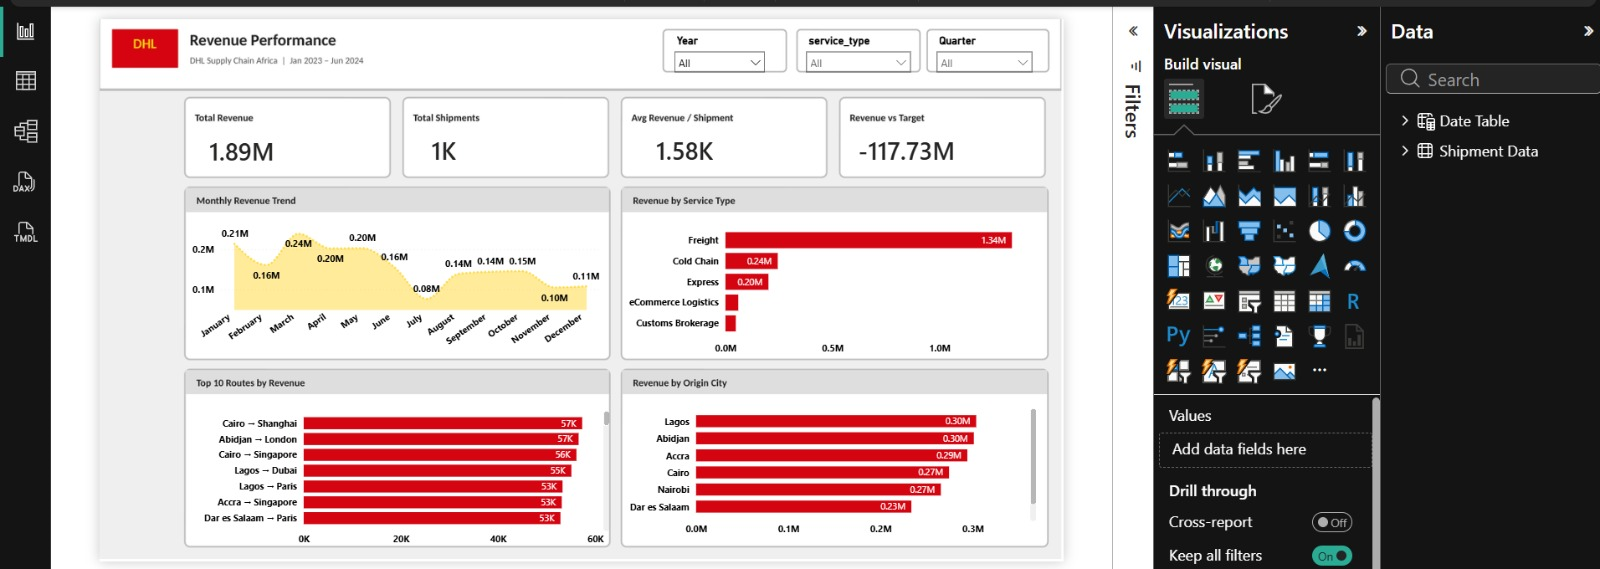

What the dashboard file says about the page in this screenshot:
{"tool":"powerbi","page":{"name":"Revenue Performance","canvas":[1280,720],"ordinal":0},"visuals":[{"type":"slicer","fields":{"Values":["Date Table.Year"]},"box":[753.3,15,140,55],"z":0},{"type":"slicer","fields":{"Values":["Date Table.Quarter"]},"box":[1101.7,15,146.7,55],"z":1},{"type":"slicer","fields":{"Values":["Shipment Data.service_type"]},"box":[928.3,15,158.3,55],"z":2},{"type":"cardVisual","fields":{"Data":["Date Table.Total Revenue"]},"box":[116.7,141.7,241.7,63.3],"z":3},{"type":"cardVisual","fields":{"Data":["Date Table.Total Shipments"]},"box":[411.7,141.7,241,62],"z":4},{"type":"cardVisual","fields":{"Data":["Date Table.Avg Revenue per Shipment"]},"box":[710,141.7,241.7,62],"z":5},{"type":"cardVisual","fields":{"Data":["Date Table.Revenue vs Target"]},"box":[978.3,141.7,241,62],"z":6},{"type":"lineChart","fields":{"Category":["Date Table.Date.Variation.Date Hierarchy.Month"],"Y":["Date Table.Total Revenue"]},"box":[116.7,265,551.7,181.7],"z":7},{"type":"clusteredBarChart","fields":{"Y":["Date Table.Total Revenue"],"Category":["Shipment Data.route"]},"box":[116.7,506.7,565,201.7],"z":9},{"type":"clusteredBarChart","fields":{"Y":["Date Table.Total Revenue"],"Category":["Shipment Data.origin_city"]},"box":[696.7,503.3,551.7,191.7],"z":10},{"type":"clusteredBarChart","fields":{"Y":["Date Table.Total Revenue"],"Category":["Shipment Data.service_type"]},"box":[696.7,258.3,551.7,196.7],"z":11}]}

Visuals, with their boxes on the page's 1280x720 design canvas (x1, y1, x2, y2). These are canvas units, not pixel positions in the 1600x569 screenshot, which may show the page scaled, cropped or inside an application window:
slicer - Date Table.Year: 753 15 893 70
slicer - Date Table.Quarter: 1102 15 1248 70
slicer - Shipment Data.service_type: 928 15 1087 70
cardVisual - Date Table.Total Revenue: 117 142 358 205
cardVisual - Date Table.Total Shipments: 412 142 653 204
cardVisual - Date Table.Avg Revenue per Shipment: 710 142 952 204
cardVisual - Date Table.Revenue vs Target: 978 142 1219 204
lineChart - Date Table.Date.Variation.Date Hierarchy.Month x Date Table.Total Revenue: 117 265 668 447
clusteredBarChart - Date Table.Total Revenue x Shipment Data.route: 117 507 682 708
clusteredBarChart - Date Table.Total Revenue x Shipment Data.origin_city: 697 503 1248 695
clusteredBarChart - Date Table.Total Revenue x Shipment Data.service_type: 697 258 1248 455
